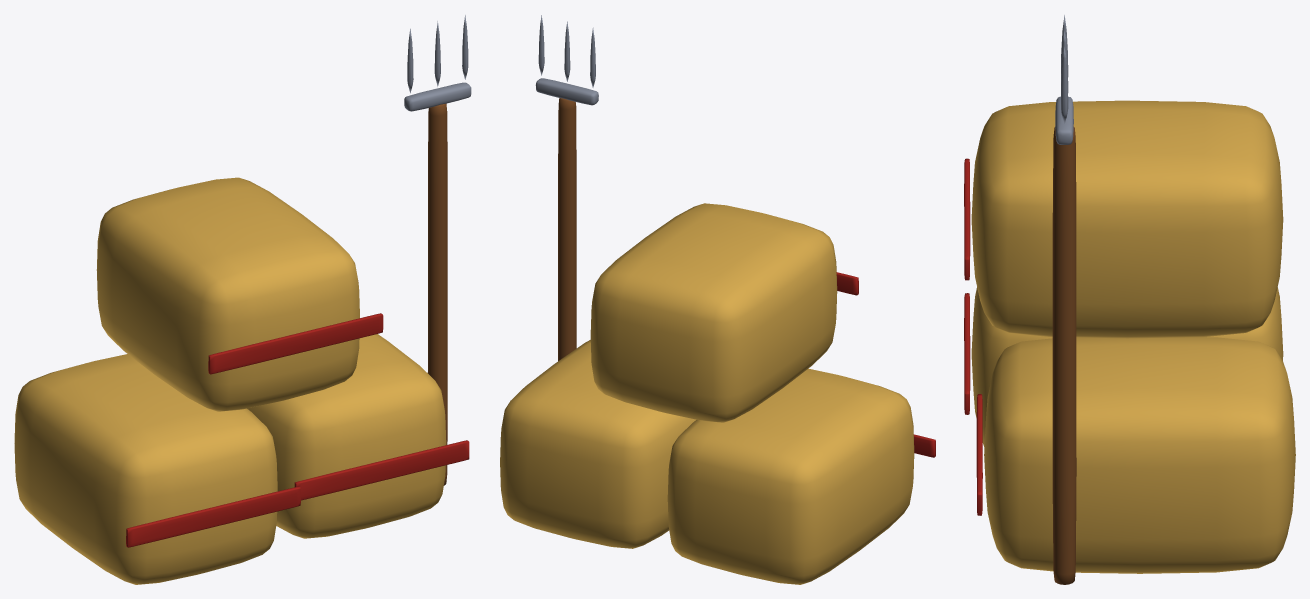
Rendered from HeuDeko.fbx.
The picture shows the model from 3 angles, left to right: view 1: azimuth 30°, elevation 25°; view 2: azimuth 150°, elevation 25°; view 3: azimuth 270°, elevation 25°; orthographic projection. The views are drawn at different scales.
Visible parts, largest first — view 1: HeuDeko; view 2: HeuDeko; view 3: HeuDeko.
Boxes of the visible parts, <box> form: HeuDeko: <box>14,15,471,584</box>; HeuDeko: <box>500,15,935,584</box>; HeuDeko: <box>964,15,1295,584</box>.
Size of the model in its own units: 0.8397 by 0.9976 by 0.528.
